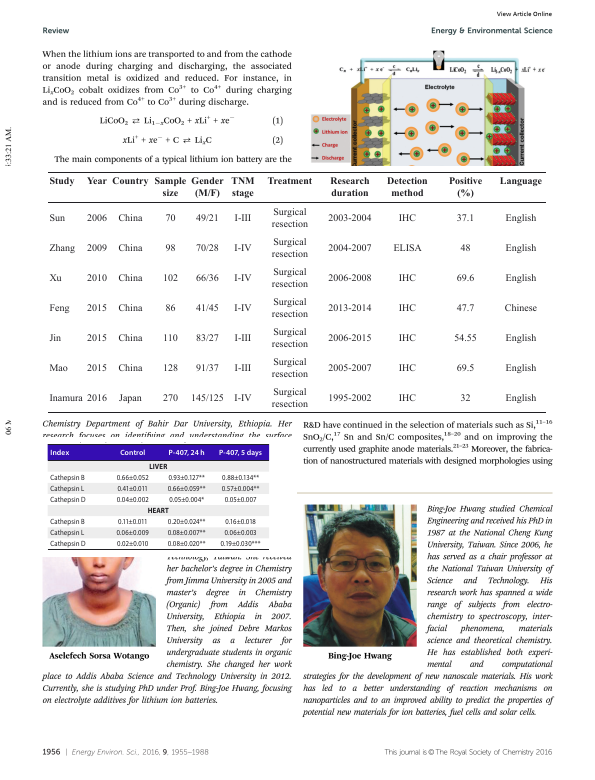borderless: (47, 171, 546, 412), (48, 442, 269, 549)
cell: (386, 177, 428, 200), (329, 177, 370, 200), (270, 237, 309, 261), (270, 208, 309, 231), (270, 267, 309, 290), (270, 297, 309, 320), (270, 327, 309, 350), (270, 357, 309, 380), (270, 387, 309, 410), (448, 177, 483, 200), (153, 177, 187, 200), (190, 177, 224, 200), (230, 177, 255, 200), (327, 243, 372, 255), (266, 177, 313, 188), (498, 177, 543, 188), (327, 214, 372, 225), (327, 273, 372, 284), (327, 303, 372, 314), (327, 333, 372, 344), (327, 363, 372, 374), (327, 393, 372, 404), (111, 177, 149, 188), (218, 448, 263, 457), (504, 243, 537, 255), (503, 303, 538, 314), (48, 393, 83, 404), (219, 540, 261, 549), (190, 393, 224, 404), (504, 214, 537, 225), (504, 273, 537, 284), (504, 333, 537, 344), (504, 363, 537, 374), (504, 393, 537, 404), (392, 243, 422, 255), (167, 473, 206, 482), (221, 473, 260, 482), (167, 484, 206, 493), (221, 484, 260, 493), (167, 518, 206, 527), (167, 529, 206, 538), (167, 540, 206, 549), (168, 448, 206, 457), (48, 243, 76, 255), (49, 473, 86, 482), (49, 495, 86, 504), (168, 495, 205, 504), (49, 518, 86, 527), (49, 540, 86, 549), (49, 484, 85, 493), (49, 529, 85, 538), (115, 529, 150, 538), (223, 529, 258, 538), (117, 243, 143, 255), (116, 473, 150, 482), (116, 495, 150, 504), (48, 177, 75, 188), (116, 484, 149, 493), (224, 495, 257, 504), (224, 518, 257, 527), (116, 540, 149, 549), (195, 243, 219, 255), (117, 214, 143, 225), (117, 273, 143, 284), (117, 303, 143, 314), (117, 333, 143, 344), (117, 363, 143, 374), (117, 518, 148, 527), (195, 214, 219, 225), (86, 243, 108, 255), (195, 273, 219, 284), (195, 303, 219, 314), (195, 333, 219, 344), (453, 333, 477, 344), (195, 363, 219, 374), (118, 393, 142, 404), (119, 448, 146, 457), (86, 177, 108, 188), (85, 214, 107, 225), (85, 273, 107, 284), (48, 303, 70, 314), (86, 303, 108, 314), (86, 333, 108, 344), (86, 363, 108, 374), (86, 393, 108, 404), (233, 243, 252, 255), (397, 214, 417, 225), (455, 214, 475, 225), (397, 273, 417, 284), (455, 273, 475, 284), (397, 303, 417, 314), (455, 303, 475, 314), (397, 333, 417, 344), (48, 363, 68, 374), (397, 363, 417, 374), (455, 363, 475, 374), (397, 393, 417, 404), (233, 214, 252, 225), (233, 273, 252, 284), (233, 303, 252, 314), (233, 333, 252, 344), (233, 363, 252, 374), (233, 393, 252, 404), (48, 214, 66, 225), (49, 448, 70, 457), (162, 273, 179, 284), (162, 363, 179, 374), (162, 393, 179, 404), (162, 333, 178, 344), (147, 507, 170, 514), (48, 273, 62, 284), (48, 333, 62, 344), (164, 243, 176, 255), (459, 243, 471, 255), (148, 462, 168, 469), (164, 214, 176, 225), (164, 303, 176, 314), (459, 393, 471, 404)
